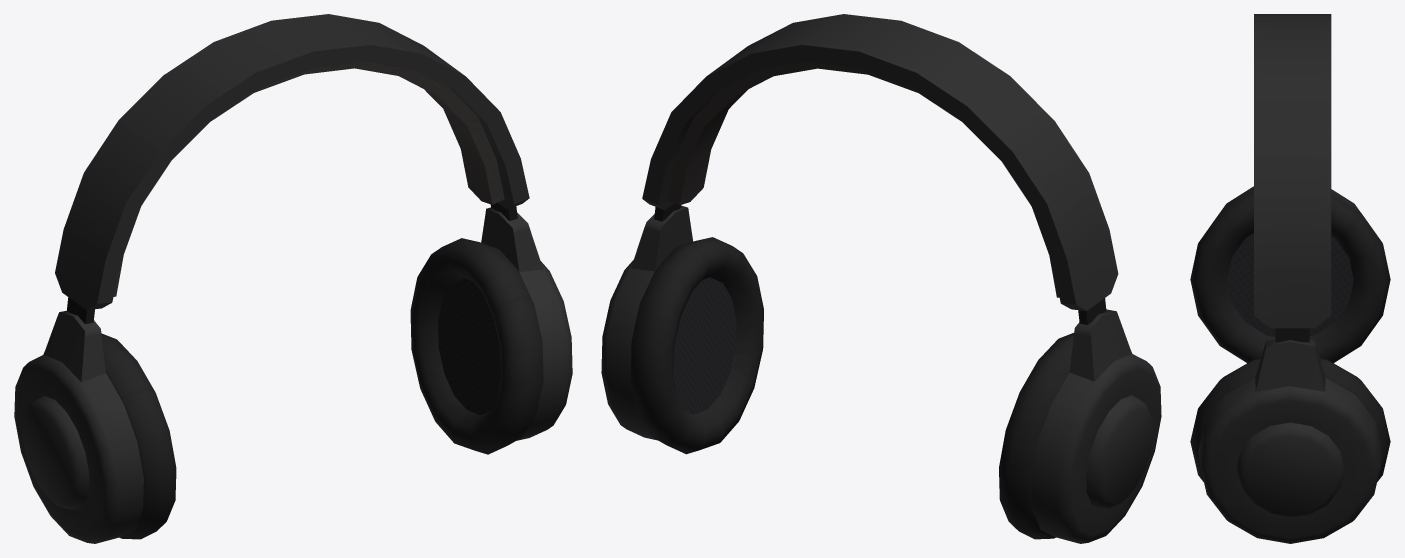
3 renders of one model, left to right at view 1: azimuth 30°, elevation 25°; view 2: azimuth 150°, elevation 25°; view 3: azimuth 270°, elevation 25°, orthographic. The views are drawn at different scales.
Visible parts, largest first — view 1: model_20; view 2: model_20; view 3: model_20.
Boxes of the visible parts, x1,y1,x2,y2 form: model_20: (14, 14, 572, 543); model_20: (601, 14, 1161, 543); model_20: (1190, 14, 1390, 543).
Bounding box in the file's own units: 1 × 0.8678 × 0.3798.
Materials: 1 (1 with a texture image).
